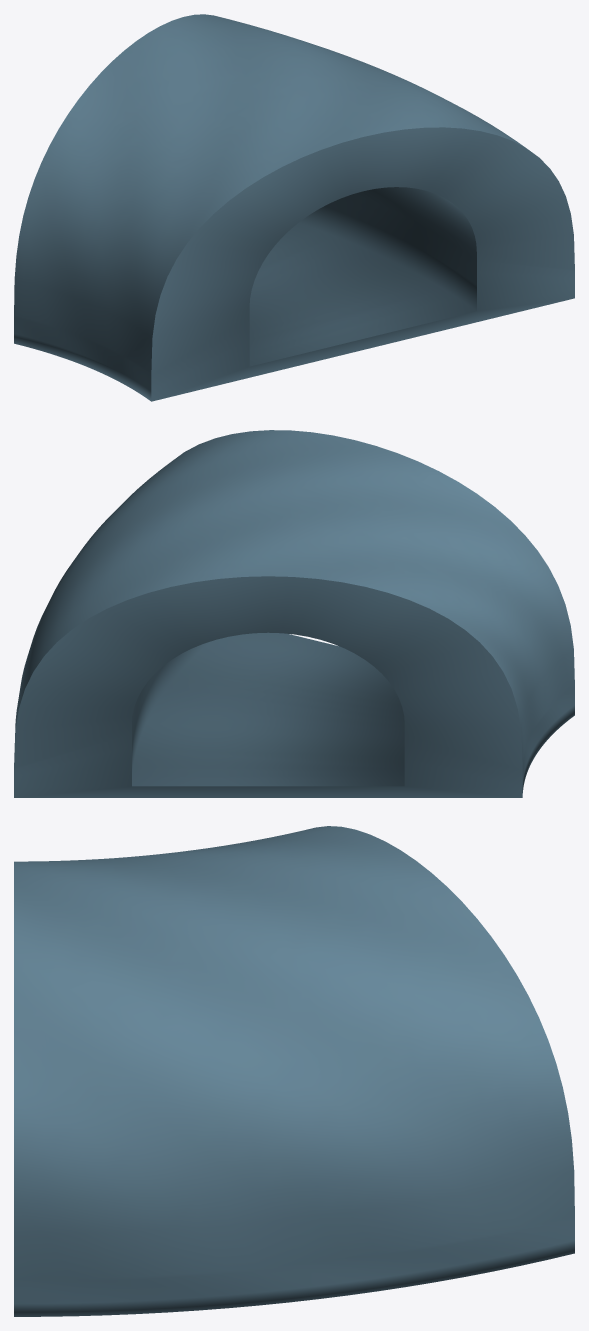
File: curve_left_30_terrain.glb
3 views of the same model, one above another, from view 1: azimuth 30°, elevation 25°; view 2: azimuth 150°, elevation 25°; view 3: azimuth 270°, elevation 25° (orthographic). The views are drawn at different scales.
Parts seen in each view (by area): view 1: TerrainRoof.006; view 2: TerrainRoof.006; view 3: TerrainRoof.006.
Boxes of the visible parts, left/top/right/bottom form: TerrainRoof.006: left=14, top=14, right=574, bottom=401; TerrainRoof.006: left=14, top=430, right=574, bottom=797; TerrainRoof.006: left=14, top=826, right=574, bottom=1316.
Bounding box in the file's own units: 31.32 × 13.65 × 25.1.
